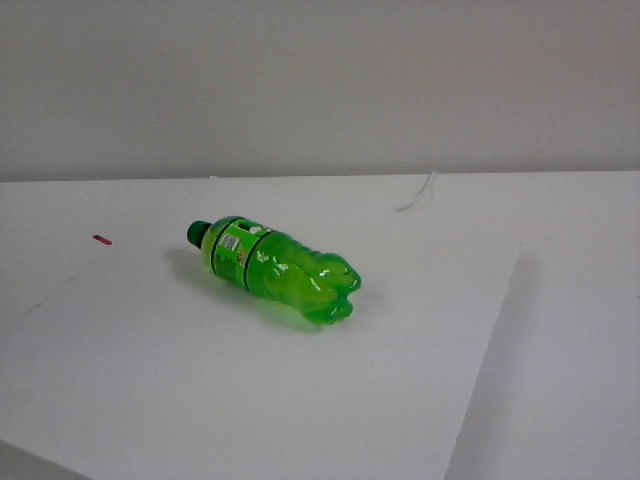botolplastik: (188, 216, 361, 324)
